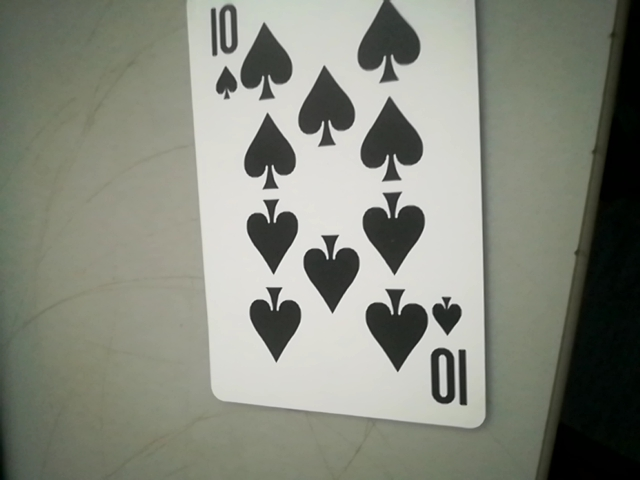ht 10: (423, 300, 476, 417)
